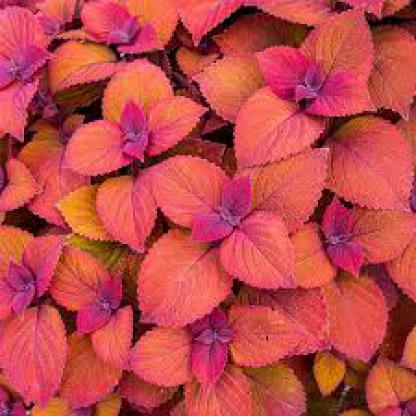Bunga Coleus: (14, 20, 402, 401)
